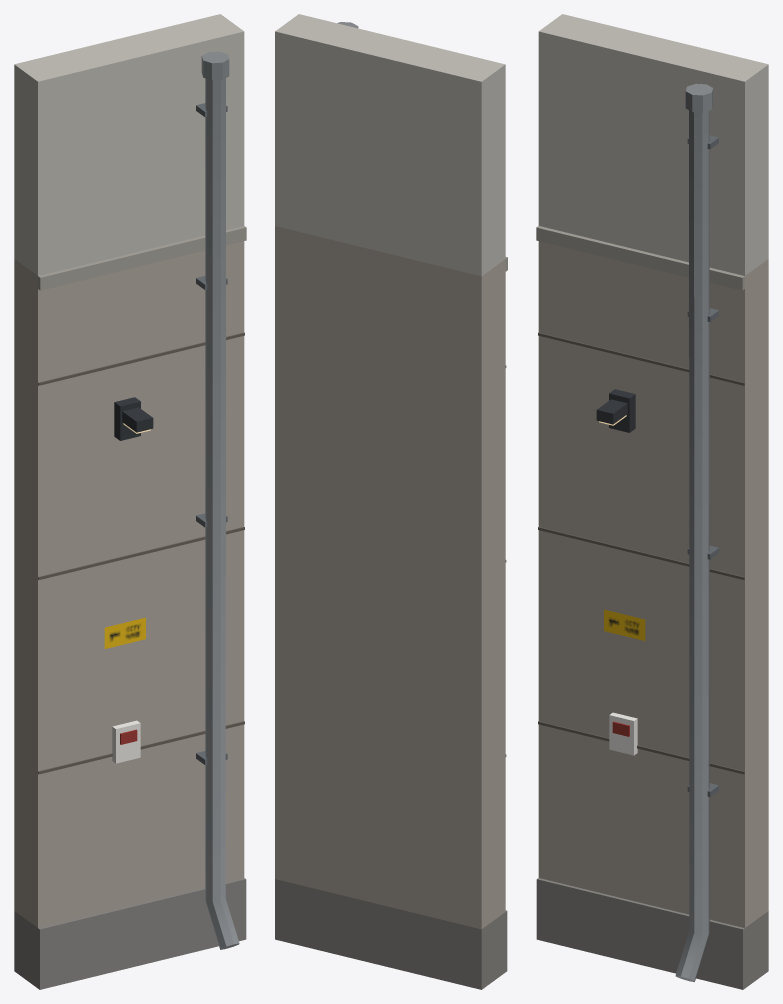
Rendered from SC_Shop_Filler_1m.gltf.
The picture shows the model from 3 angles, left to right: view 1: azimuth 30°, elevation 25°; view 2: azimuth 150°, elevation 25°; view 3: azimuth 330°, elevation 25°; orthographic projection.
Parts seen in each view (by area): view 1: SC_Shop_Filler_1m; view 2: SC_Shop_Filler_1m; view 3: SC_Shop_Filler_1m.
Part boxes in pixels (left/top/right/bottom): SC_Shop_Filler_1m: left=14, top=14, right=246, bottom=989; SC_Shop_Filler_1m: left=275, top=14, right=507, bottom=989; SC_Shop_Filler_1m: left=536, top=14, right=768, bottom=989.
Size of the model in its own units: 1 by 4.2 by 0.4268.
3 materials, 3 textured.
